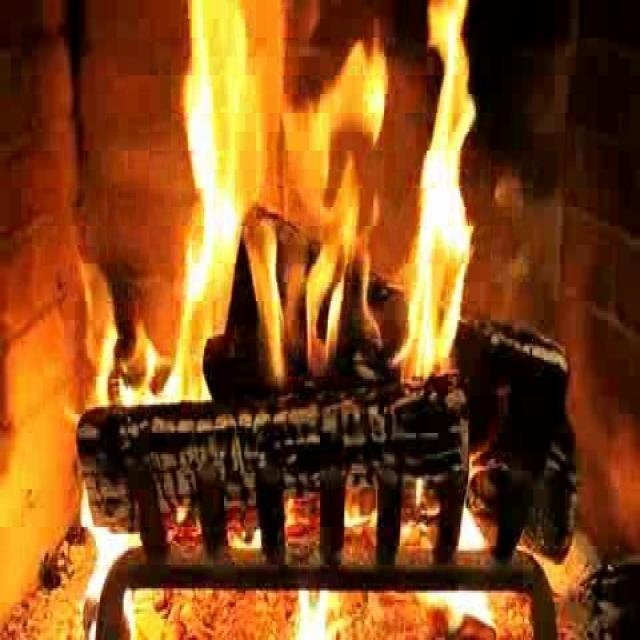Fire: (168, 0, 479, 384)
